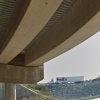Bridge: (5, 4, 83, 92)
